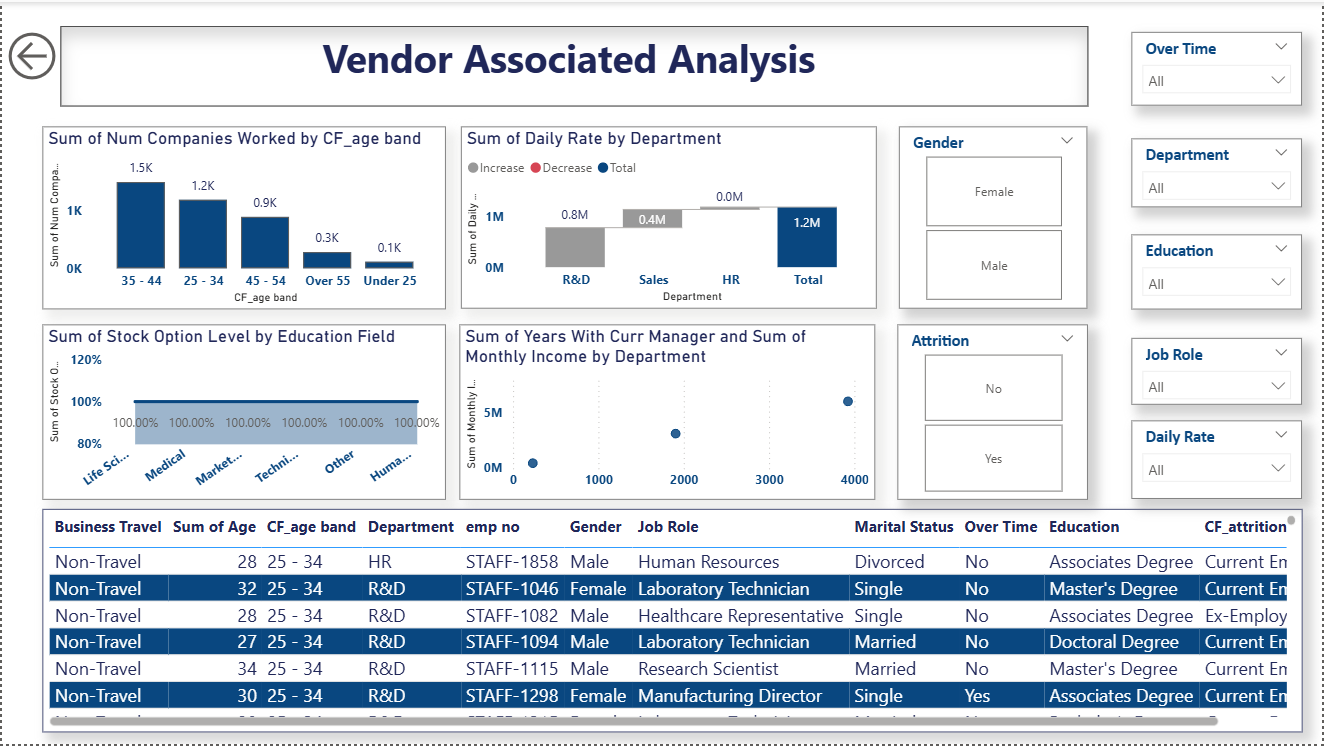

What the dashboard file says about the page in this screenshot:
{"tool":"powerbi","page":{"name":"Vendor Associated  Analysis ","canvas":[1280,720],"ordinal":2},"visuals":[{"type":"textbox","box":[56.7,22.7,997.4,77.7],"z":0},{"type":"columnChart","fields":{"Category":["Table1.CF_age band"],"Y":["Sum(Table1.Num Companies Worked)"]},"box":[39.3,120.8,391.5,177.6],"z":1000},{"type":"waterfallChart","fields":{"Category":["Table1.Department"],"Y":["Sum(Table1.Daily Rate)"]},"box":[445.3,121.4,403.2,176.5],"z":2000},{"type":"hundredPercentStackedAreaChart","fields":{"Category":["Table1.Education Field"],"Y":["Sum(Table1.Stock Option Level)"]},"box":[39.3,312.9,391.5,170.3],"z":3000},{"type":"scatterChart","fields":{"Category":["Table1.Department"],"X":["Sum(Table1.Years With Curr Manager)"],"Y":["Sum(Table1.Monthly Income)"]},"box":[443.7,312.5,403.2,170],"z":4000},{"type":"tableEx","fields":{"Values":["Table1.Business Travel","Sum(Table1.Age)","Table1.CF_age band","Table1.Department","Table1.emp no","Table1.Gender","Table1.Job Role","Table1.Marital Status","Table1.Over Time","Table1.Education","Table1.CF_attrition label"]},"box":[38.9,492.2,1222.5,217],"z":6000},{"type":"slicer","fields":{"Values":["Table1.Department"]},"box":[1096.2,132.8,165.2,66.4],"z":7000},{"type":"slicer","fields":{"Values":["Table1.Education"]},"box":[1096.2,225.1,165.2,72.9],"z":8000},{"type":"slicer","fields":{"Values":["Table1.Job Role"]},"box":[1096.2,325.5,165.2,64.8],"z":9000},{"type":"slicer","fields":{"Values":["Table1.Daily Rate"]},"box":[1096.2,406.4,165.2,76.1],"z":10000},{"type":"slicer","fields":{"Values":["Table1.Gender"]},"box":[871.1,121.4,183,176.5],"z":11000},{"type":"slicer","fields":{"Values":["Table1.Attrition"]},"box":[869.5,312.5,184.6,170],"z":12000},{"type":"slicer","fields":{"Values":["Table1.Over Time"]},"box":[1096.2,29.1,165.2,71.2],"z":13000},{"type":"actionButton","box":[0,22.7,68,58.3],"z":14000}]}

Visuals, with their boxes in screenshot pixels (x1, y1, x2, y2), scaled from the page's 1280x720 canvas onto the 1324x746 screenshot:
textbox: 59, 24, 1090, 104
columnChart - Table1.CF_age band x Sum(Table1.Num Companies Worked): 41, 125, 446, 309
waterfallChart - Table1.Department x Sum(Table1.Daily Rate): 461, 126, 878, 309
hundredPercentStackedAreaChart - Table1.Education Field x Sum(Table1.Stock Option Level): 41, 324, 446, 501
scatterChart - Table1.Department x Sum(Table1.Years With Curr Manager): 459, 324, 876, 500
tableEx - Table1.Business Travel x Sum(Table1.Age): 40, 510, 1305, 735
slicer - Table1.Department: 1134, 138, 1305, 206
slicer - Table1.Education: 1134, 233, 1305, 309
slicer - Table1.Job Role: 1134, 337, 1305, 404
slicer - Table1.Daily Rate: 1134, 421, 1305, 500
slicer - Table1.Gender: 901, 126, 1090, 309
slicer - Table1.Attrition: 899, 324, 1090, 500
slicer - Table1.Over Time: 1134, 30, 1305, 104
actionButton: 0, 24, 70, 84
